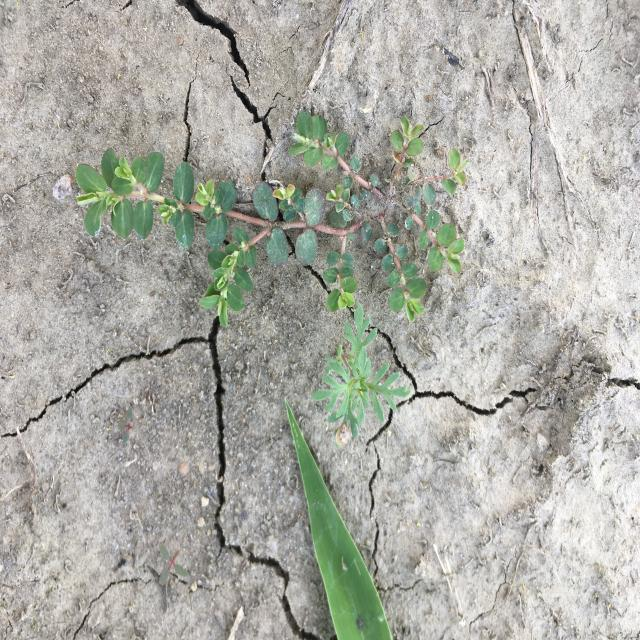Ragweed: (310, 302, 412, 450)
SpottedSpurge: (74, 108, 472, 330)
